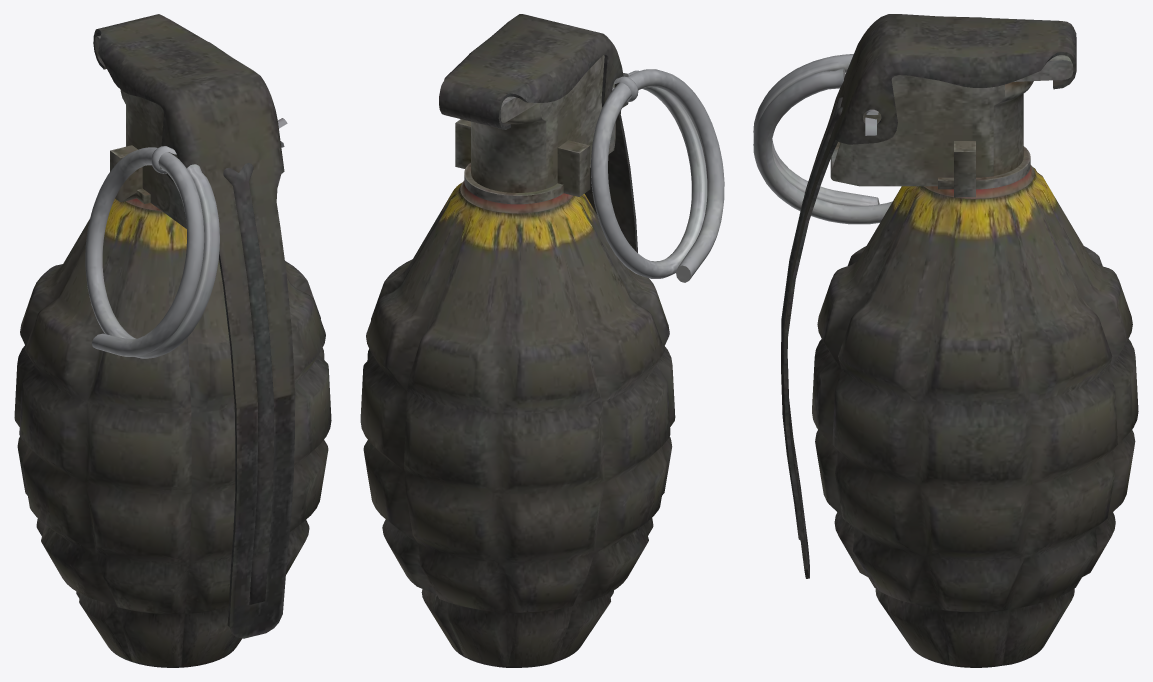
File: frag.glb
The picture shows the model from 3 angles, left to right: view 1: azimuth 30°, elevation 25°; view 2: azimuth 150°, elevation 25°; view 3: azimuth 270°, elevation 25°; orthographic projection. The views are drawn at different scales.
Visible parts, largest first — view 1: defaultMaterial_4, defaultMaterial_3, defaultMaterial_1, defaultMaterial; view 2: defaultMaterial_4, defaultMaterial_3, defaultMaterial, defaultMaterial_1; view 3: defaultMaterial_4, defaultMaterial_3, defaultMaterial, defaultMaterial_1.
Part boxes in pixels (x1=…): defaultMaterial_4: x1=14, y1=198, x2=331, y2=667; defaultMaterial_3: x1=93, y1=14, x2=295, y2=638; defaultMaterial_1: x1=85, y1=147, x2=219, y2=358; defaultMaterial: x1=94, y1=35, x2=186, y2=228; defaultMaterial_4: x1=360, y1=180, x2=675, y2=667; defaultMaterial_3: x1=439, y1=14, x2=637, y2=252; defaultMaterial: x1=455, y1=55, x2=615, y2=204; defaultMaterial_1: x1=590, y1=69, x2=724, y2=282; defaultMaterial_4: x1=812, y1=165, x2=1138, y2=667; defaultMaterial_3: x1=781, y1=14, x2=1076, y2=578; defaultMaterial: x1=830, y1=55, x2=1073, y2=197; defaultMaterial_1: x1=753, y1=54, x2=892, y2=224.
Bounding box in the file's own units: 0.9787 × 2 × 1.15.
Materials: 1 (1 with a texture image).
